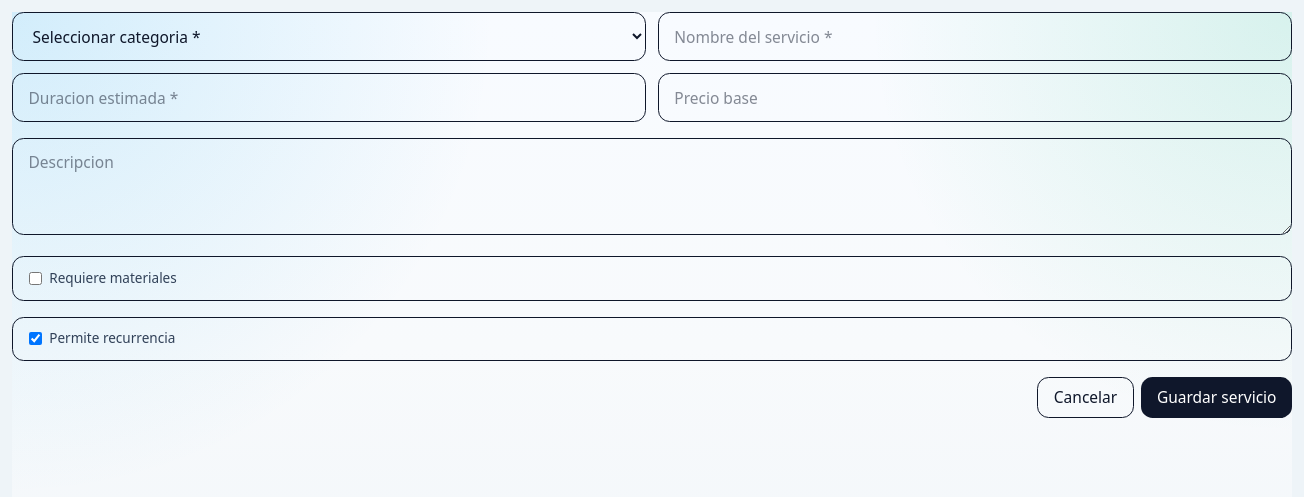
Test: ServicioForm › valida que se seleccione una categoria
The image size is (1304, 497).
Type "Poda especial" into the field with placeholder "Nombre del servicio *" at coordinates (975, 37), box [658,12,1292,61]
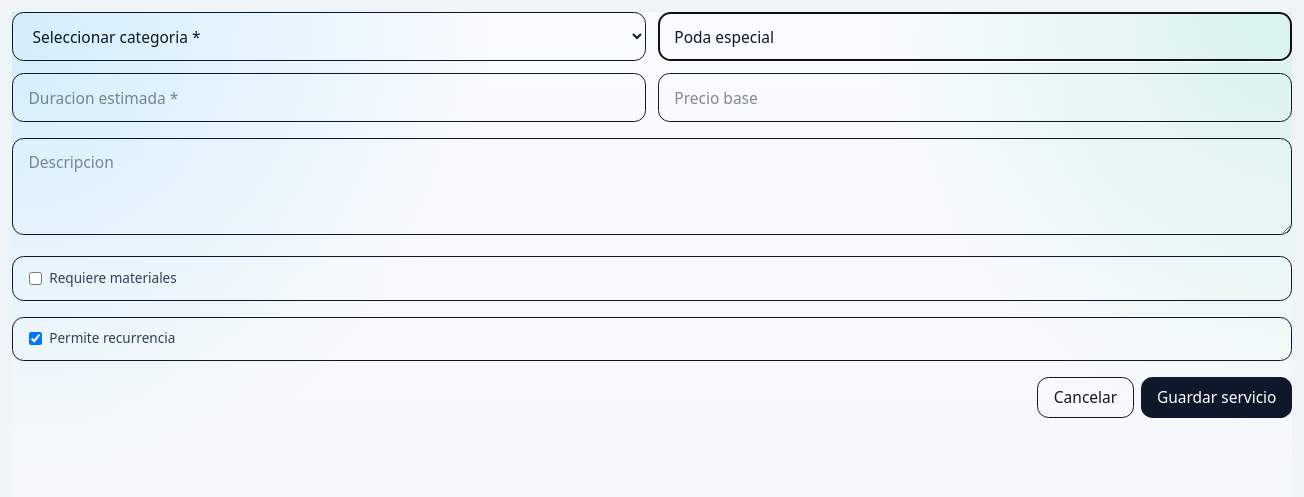
Type "45" into the number field with placeholder "Duracion estimada *" at coordinates (329, 98), box [12,73,646,122]
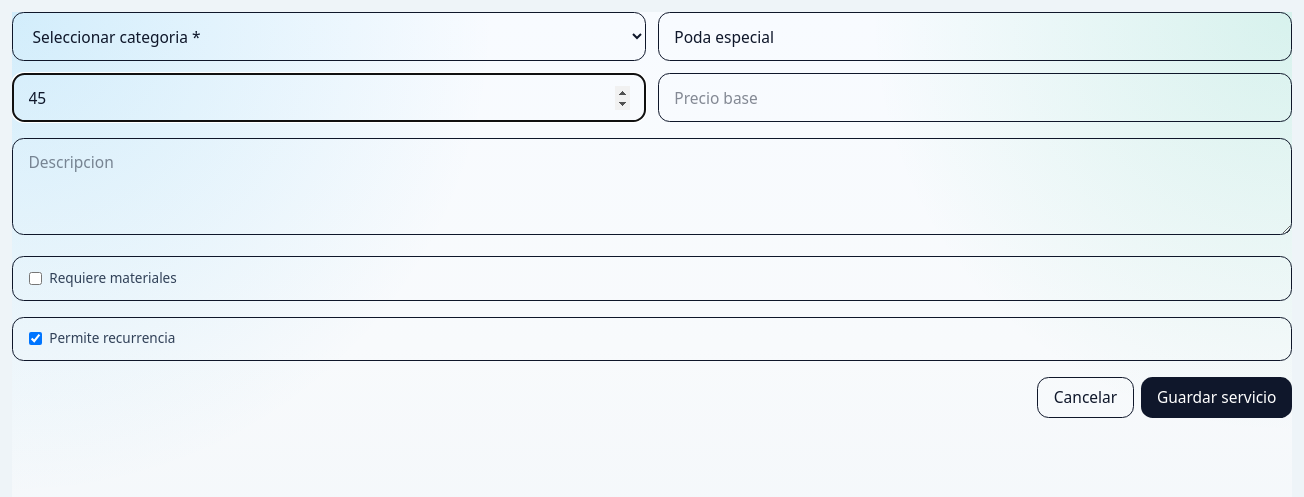
Click the button "Guardar servicio" at coordinates (1217, 397), box [1141,377,1292,418]
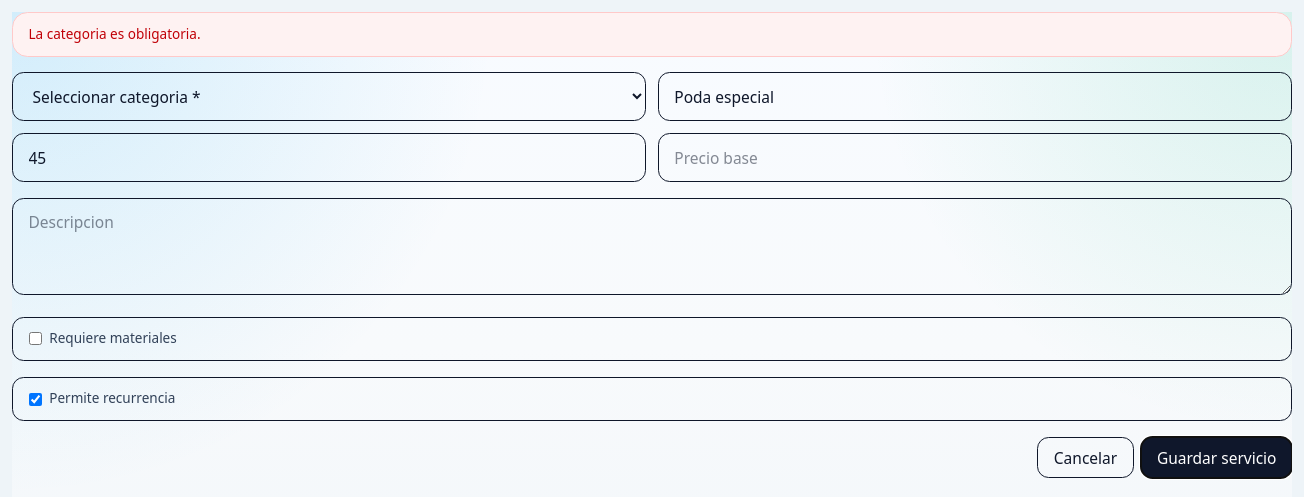
Check: the text "La categoria es obligatoria." is shown, box [12,12,1292,57]
